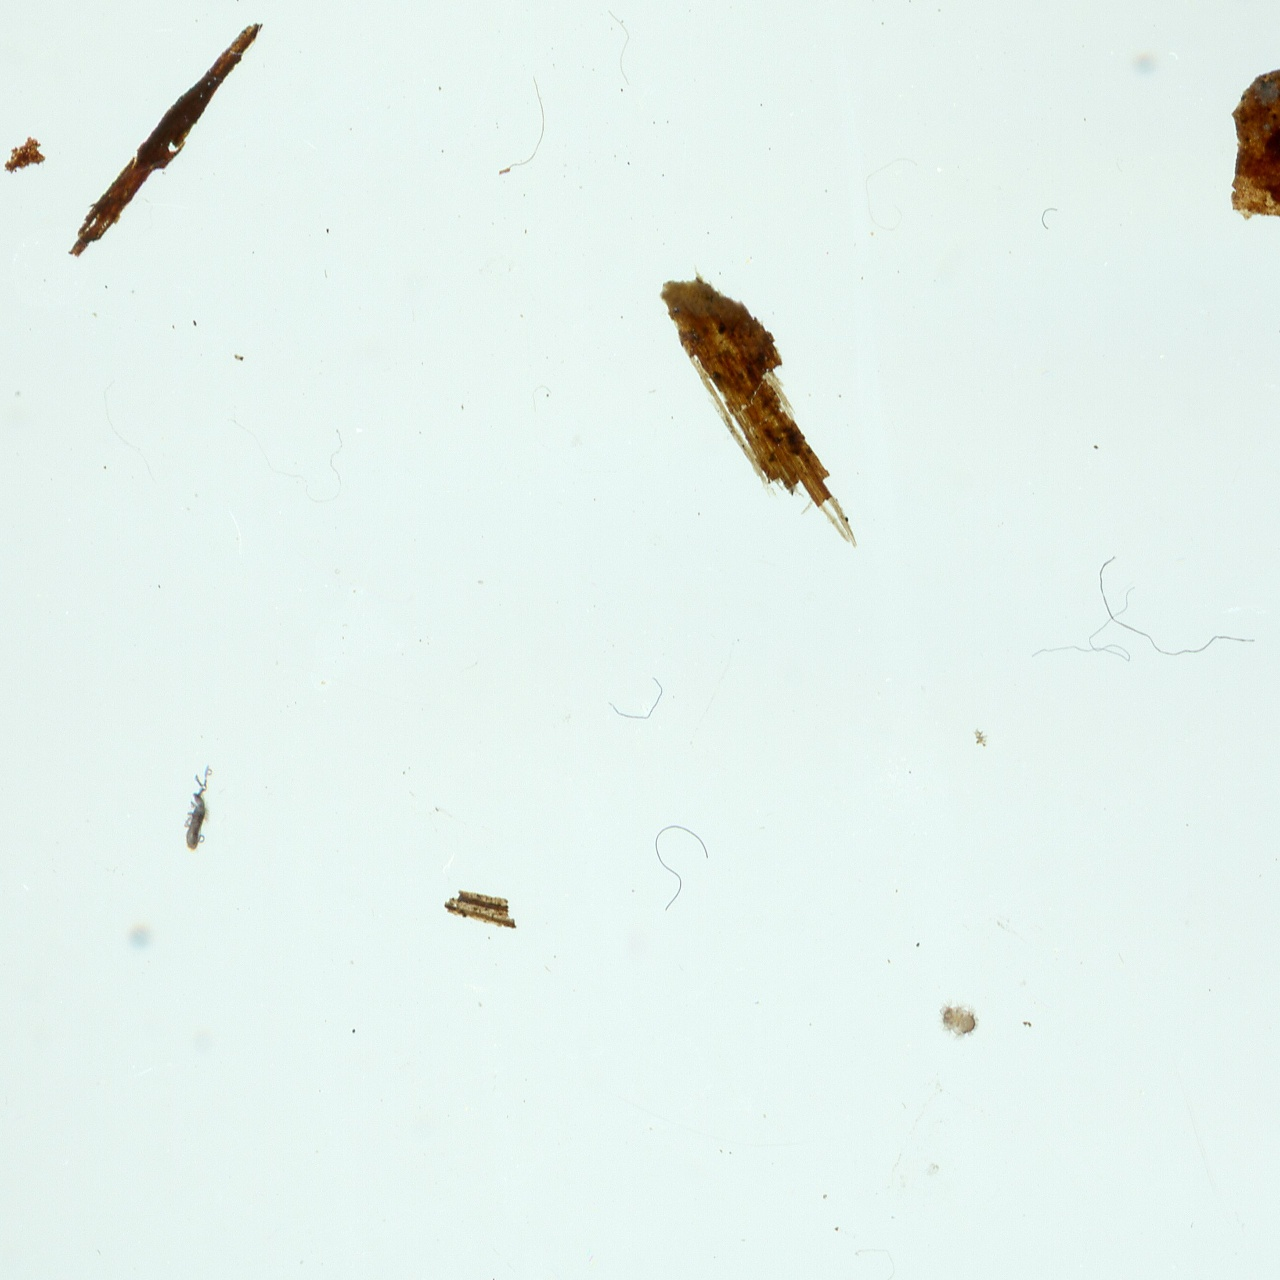arthropod: (184, 759, 216, 861)
